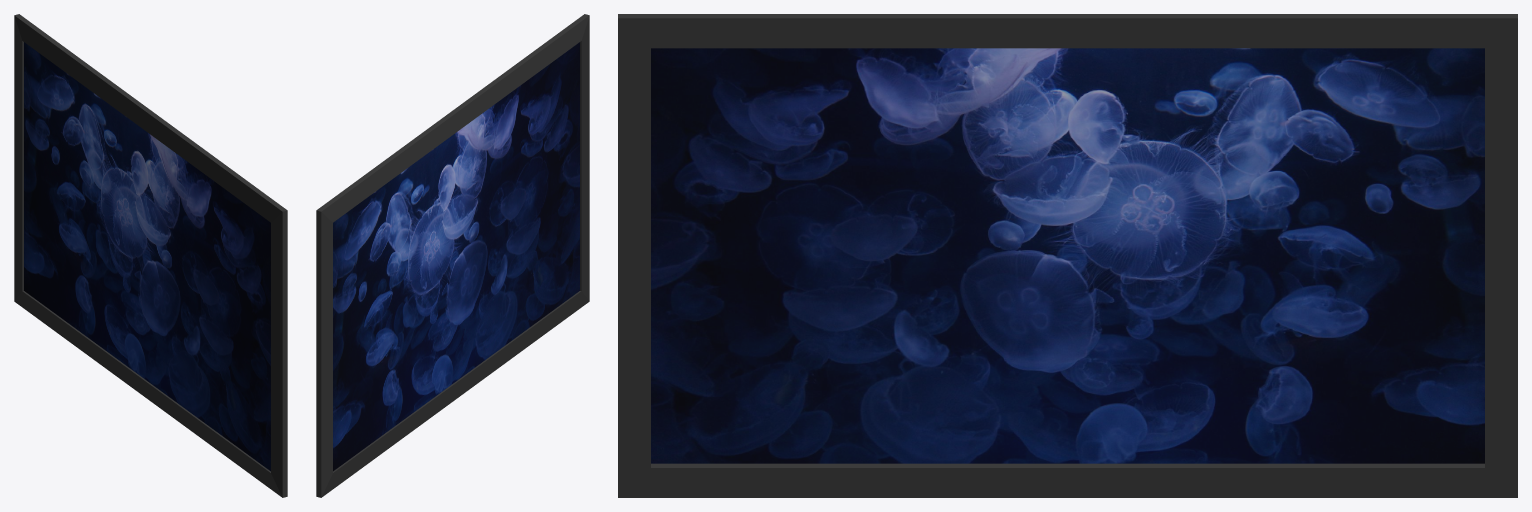
The model's file is Painting_JellyFish1.fbx.
3 views of the same model, side by side, from view 1: azimuth 30°, elevation 25°; view 2: azimuth 150°, elevation 25°; view 3: azimuth 270°, elevation 25° (orthographic). The views are drawn at different scales.
Parts seen in each view (by area): view 1: jellyfish1, PaintingFrame1; view 2: jellyfish1, PaintingFrame1; view 3: jellyfish1, PaintingFrame1.
Part boxes in pixels (<box>): jellyfish1: <box>24,42,270,471</box>; PaintingFrame1: <box>14,14,287,497</box>; jellyfish1: <box>333,42,579,471</box>; PaintingFrame1: <box>316,14,589,497</box>; jellyfish1: <box>651,48,1484,463</box>; PaintingFrame1: <box>618,14,1517,497</box>.
Size of the model in its own units: 4 by 160 by 272.
